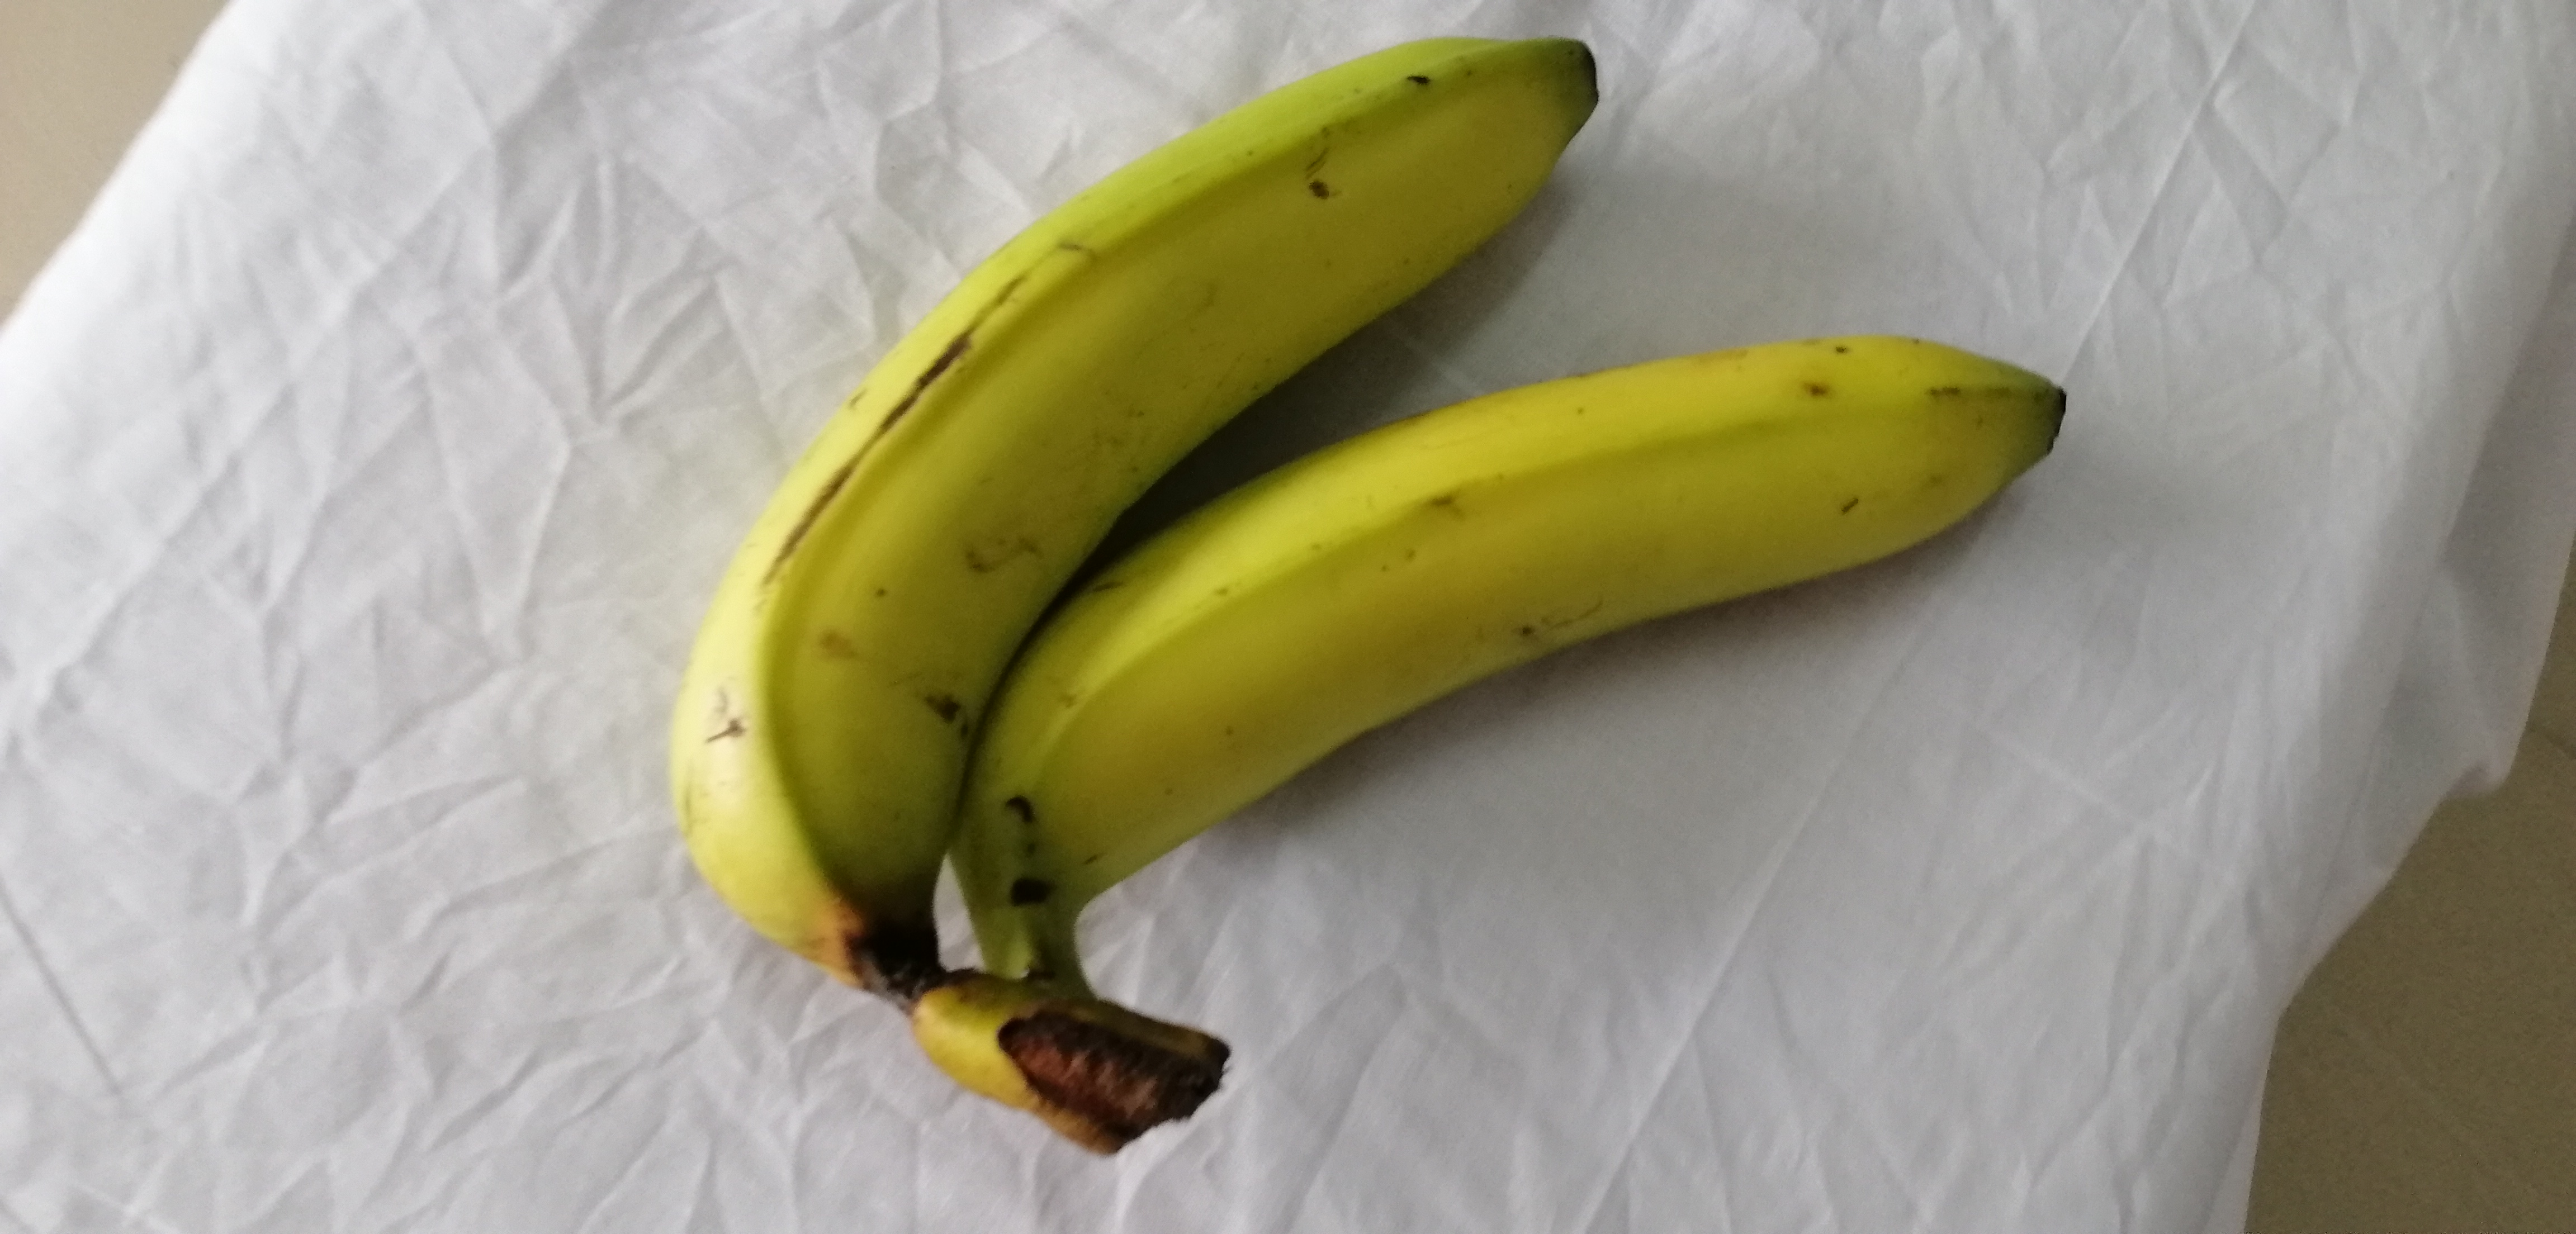banana: (660, 31, 1600, 1012), (956, 330, 2063, 1160)
